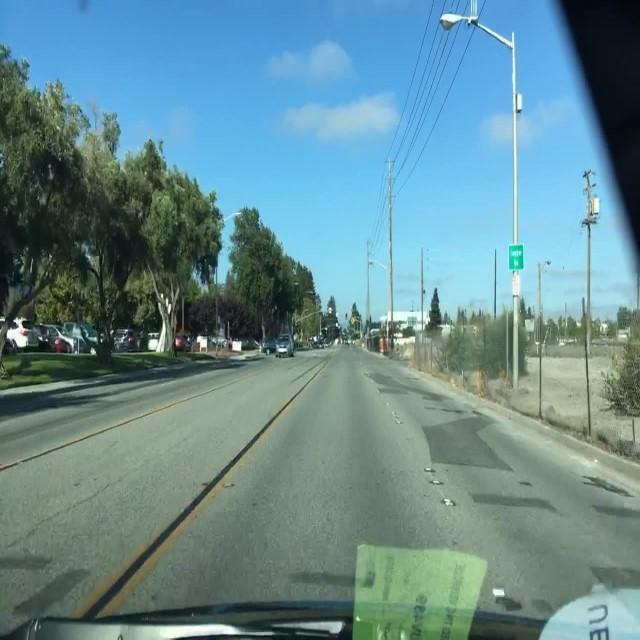normal: (237, 302, 310, 376)
